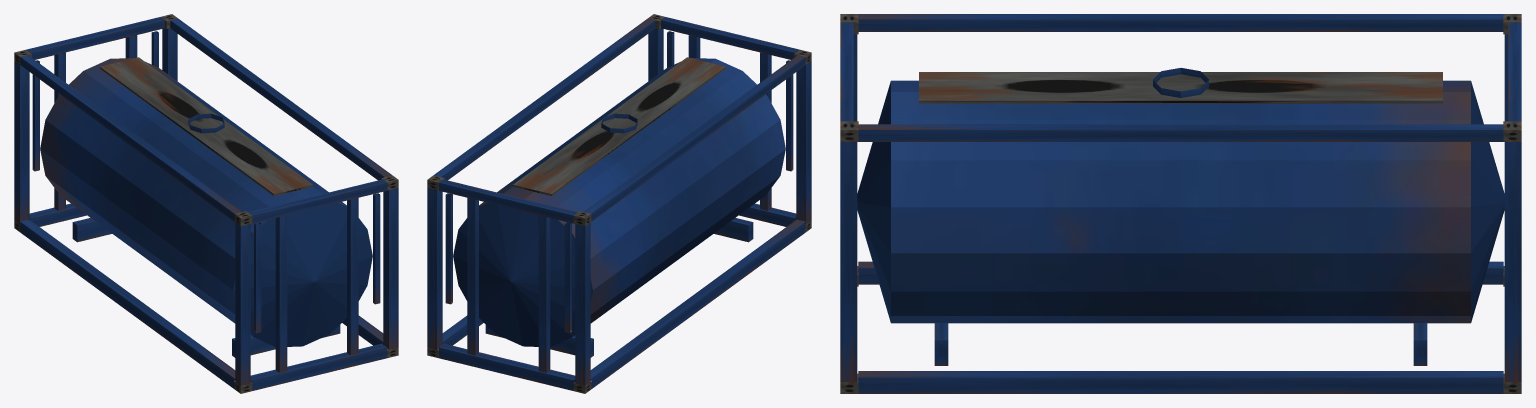
Rendered from c20tank.glb.
3 views of the same model, side by side, from view 1: azimuth 30°, elevation 25°; view 2: azimuth 150°, elevation 25°; view 3: azimuth 270°, elevation 25° (orthographic). The views are drawn at different scales.
Parts seen in each view (by area): view 1: c20tank; view 2: c20tank; view 3: c20tank.
Boxes of the visible parts, left/top/right/bottom form: c20tank: left=14, top=14, right=398, bottom=393; c20tank: left=427, top=14, right=811, bottom=393; c20tank: left=840, top=14, right=1521, bottom=393.
Bounding box in the file's own units: 2.44 × 2.59 × 6.06.
1 material, 1 textured.
